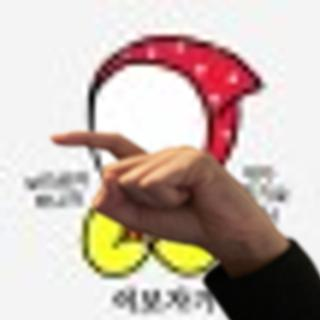WHY: (42, 123, 281, 267)
